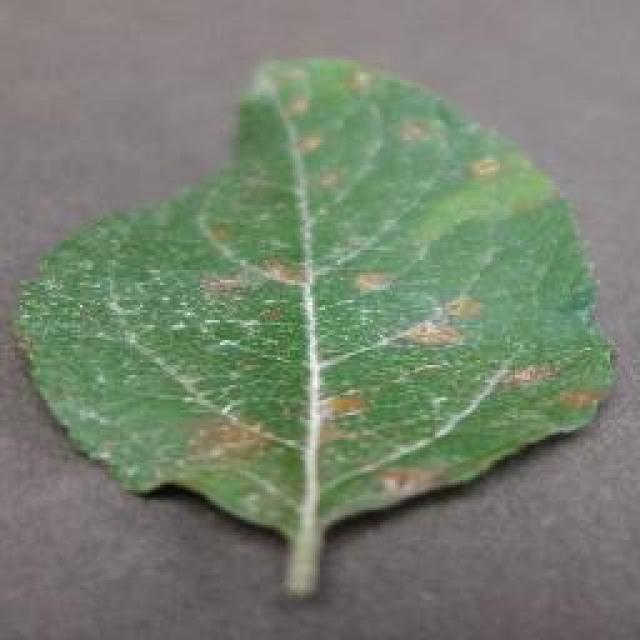apple rust disease: (10, 50, 618, 598)
